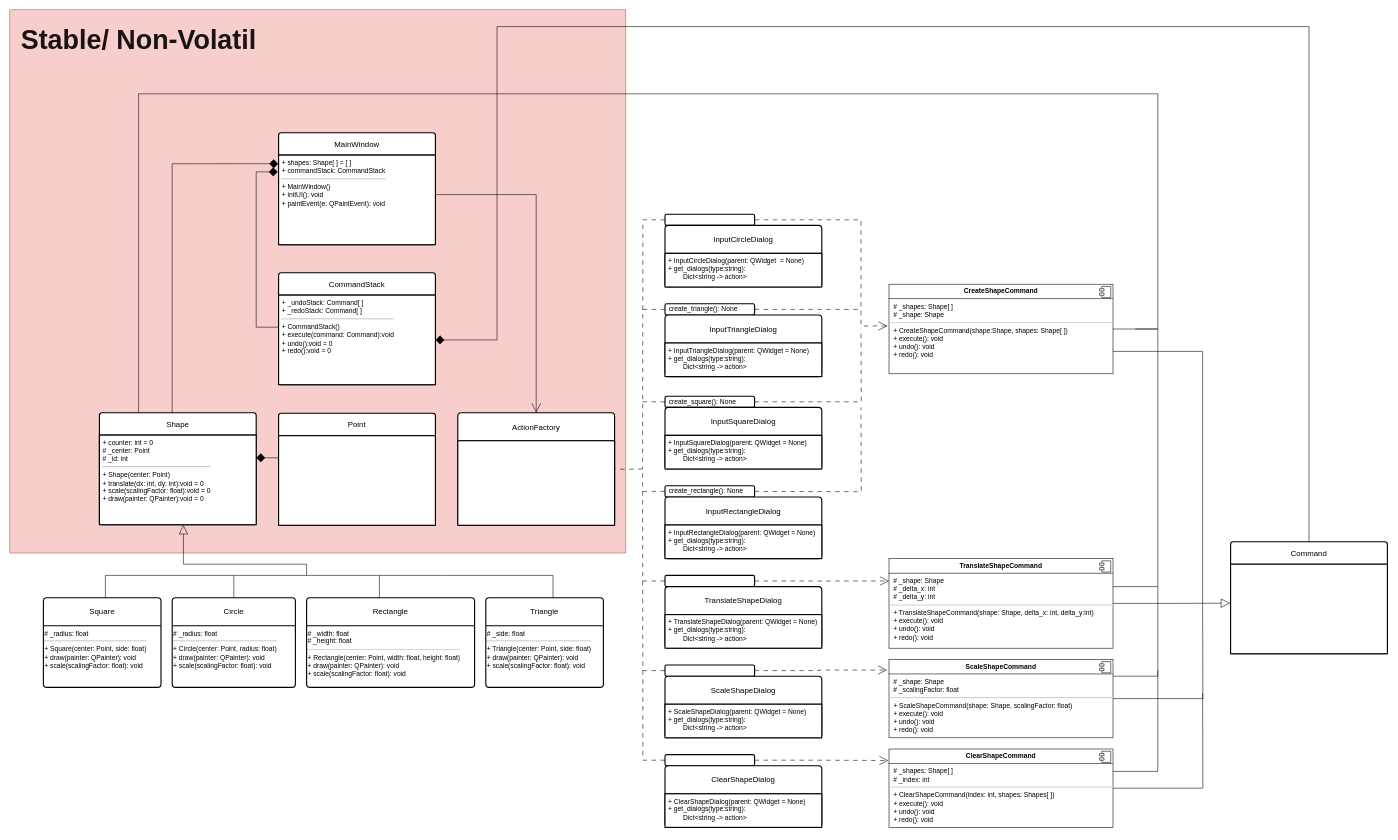
Some shapes in this 1398 by 840 pixel diagram are drawn without their labels. The shapes that lost their labels are listed below. From the top down, each one's centre as x and y in pixels, then its label:
At point 709,219: "create_circle(): None".
At point 357,480: "+ x: int + y: int + Point() + translate(dx: int, dy: int):void = 0".
At point 536,483: "+ get_dialogs(type:string): Dict<string -> action>".
At point 709,581: "translate(): None".
At point 1309,608: "+ execute():void = 0 + undo():void = 0 + redo():void = 0".
At point 709,670: "scale (): None".
At point 709,760: "clear (): None".
